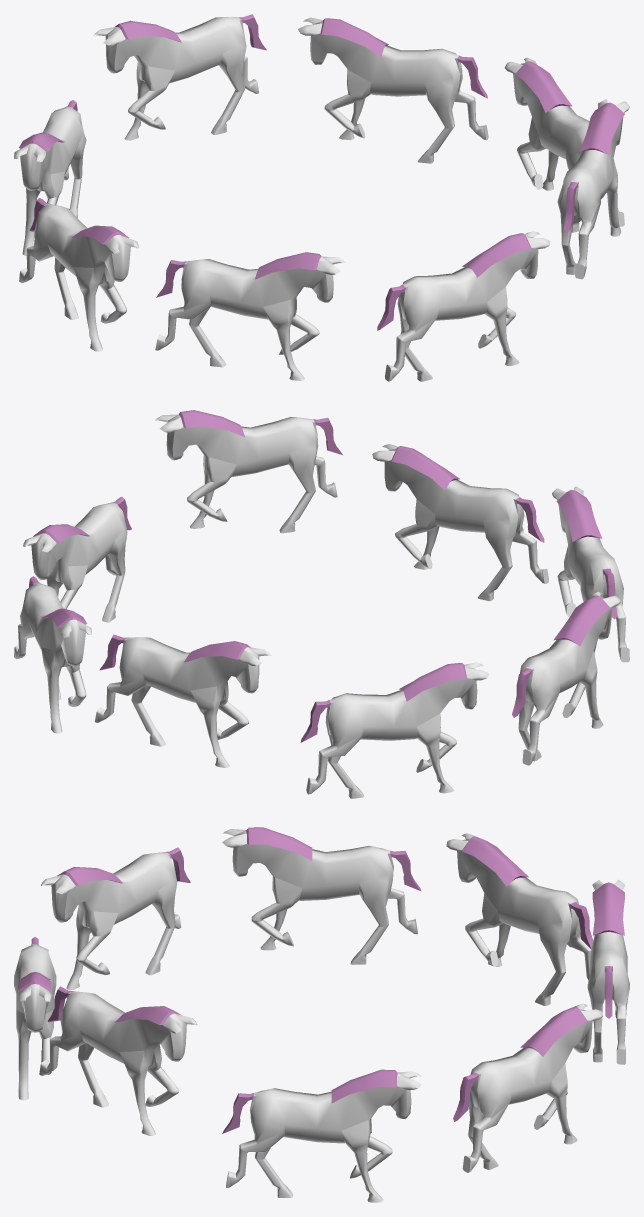
The model's file is horses.obj.
The picture shows the model from 3 angles, top to bottom: view 1: azimuth 30°, elevation 25°; view 2: azimuth 150°, elevation 25°; view 3: azimuth 270°, elevation 25°; orthographic projection. The views are drawn at different scales.
Parts seen in each view (by area): view 1: horses; view 2: horses; view 3: horses.
Part boxes in pixels (left/top/right/bottom): horses: left=14, top=14, right=629, bottom=381; horses: left=14, top=410, right=629, bottom=798; horses: left=14, top=827, right=629, bottom=1202.
Bounding box in the file's own units: 6.98 × 2.21 × 6.98.
Materials: 1 (1 with a texture image).
